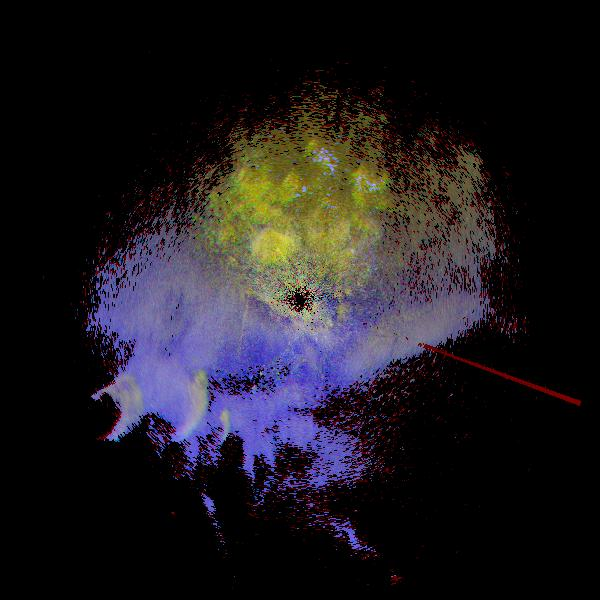roost: (137, 365, 212, 440), (168, 389, 240, 461), (79, 380, 142, 443)
